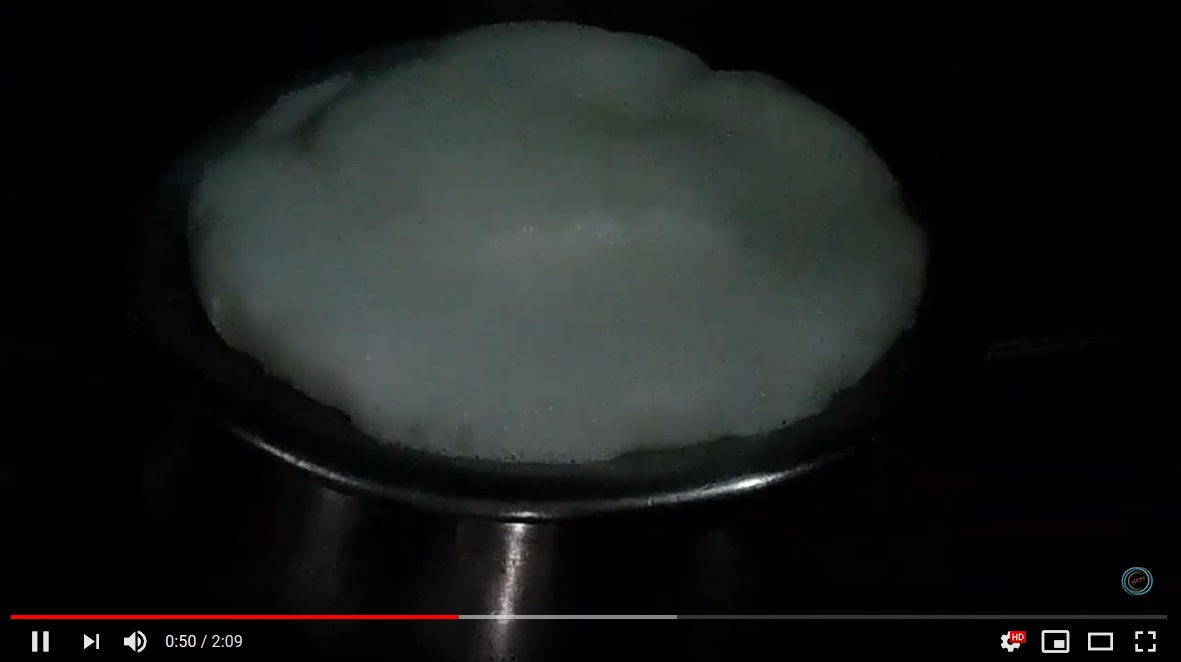Boiled: (165, 19, 971, 511)
